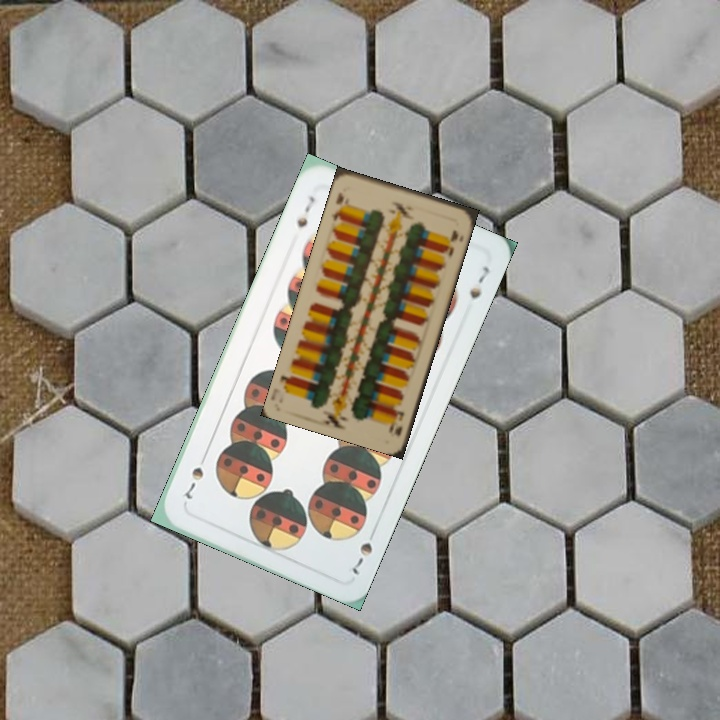E10: (327, 188, 351, 224), (385, 406, 407, 439)
S7: (348, 524, 379, 578), (292, 192, 318, 231)
